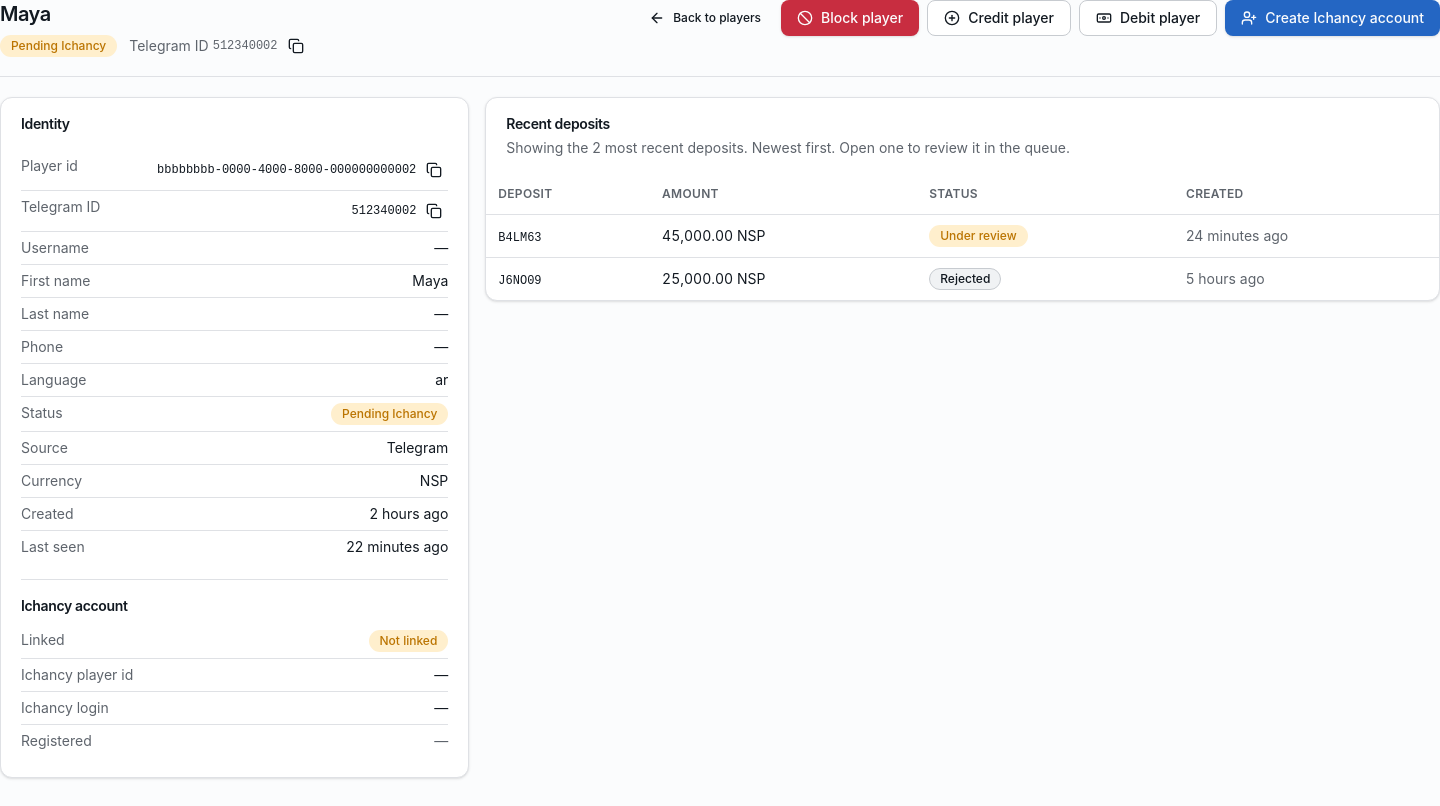
Test: PlayerDetailPage › creates the account behind a confirmation and shows the login and agent it got
Click the button "Create Ichancy account". click: coordinates (1333, 18)
box: left=1225, top=0, right=1439, bottom=36
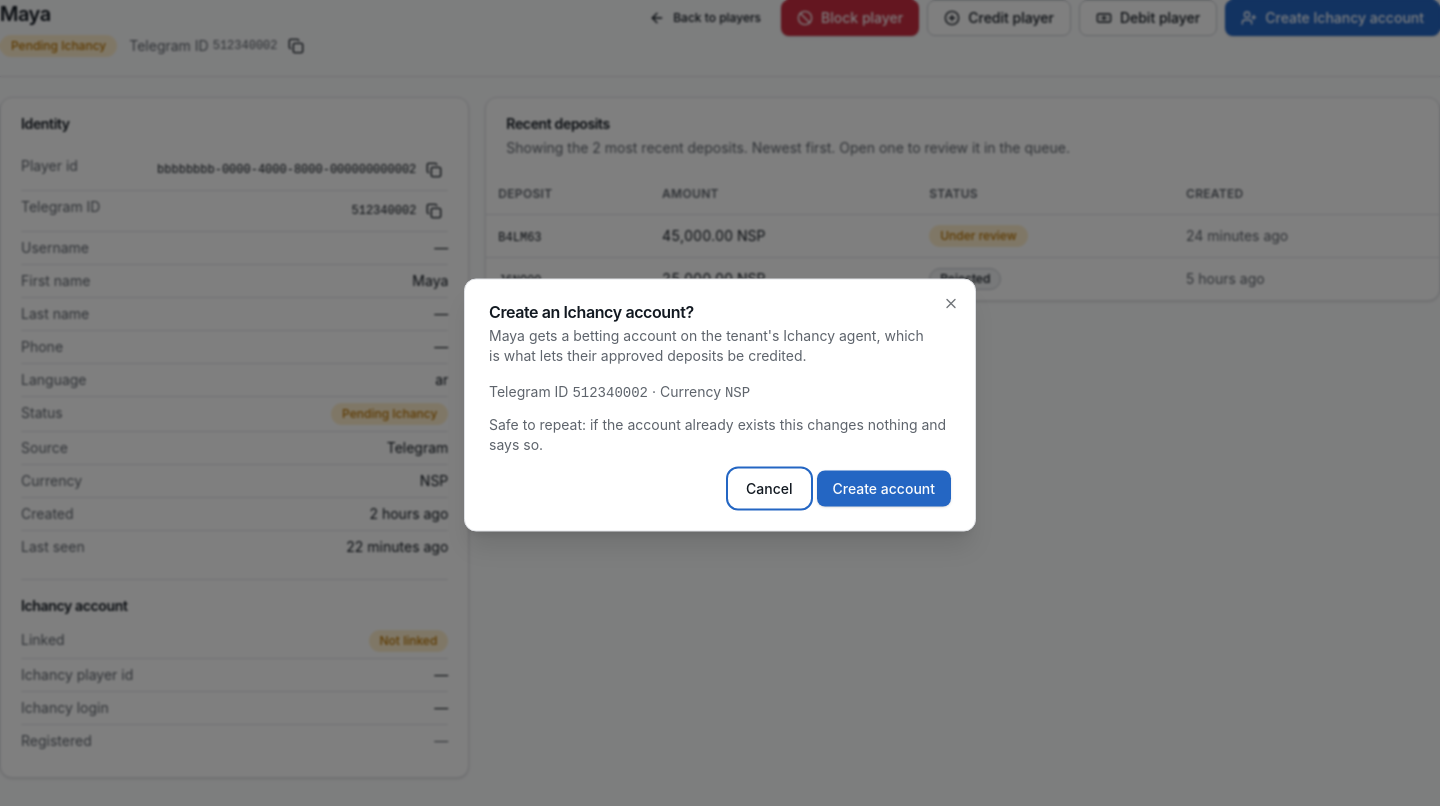
Check: the heading "Create an Ichancy account?" is shown, box left=489, top=302, right=694, bottom=322
Click the button "Create account". click: coordinates (884, 488)
box: left=816, top=470, right=951, bottom=506
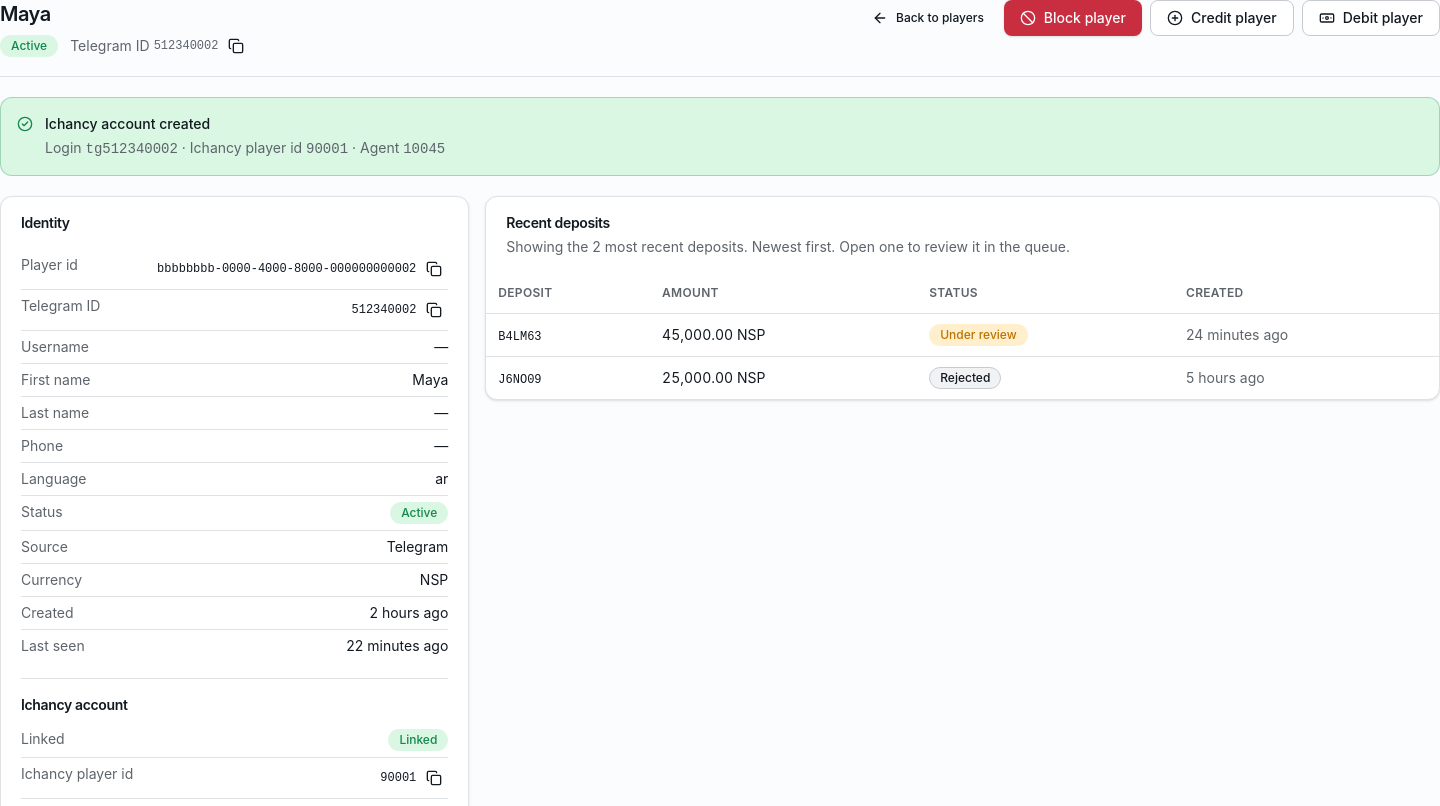
Check: the text "Ichancy account created" is shown, box left=45, top=115, right=210, bottom=132
Check: the text "tg512340002" is shown, box left=86, top=141, right=178, bottom=157
Check: the text "10045" is shown, box left=403, top=141, right=445, bottom=157
